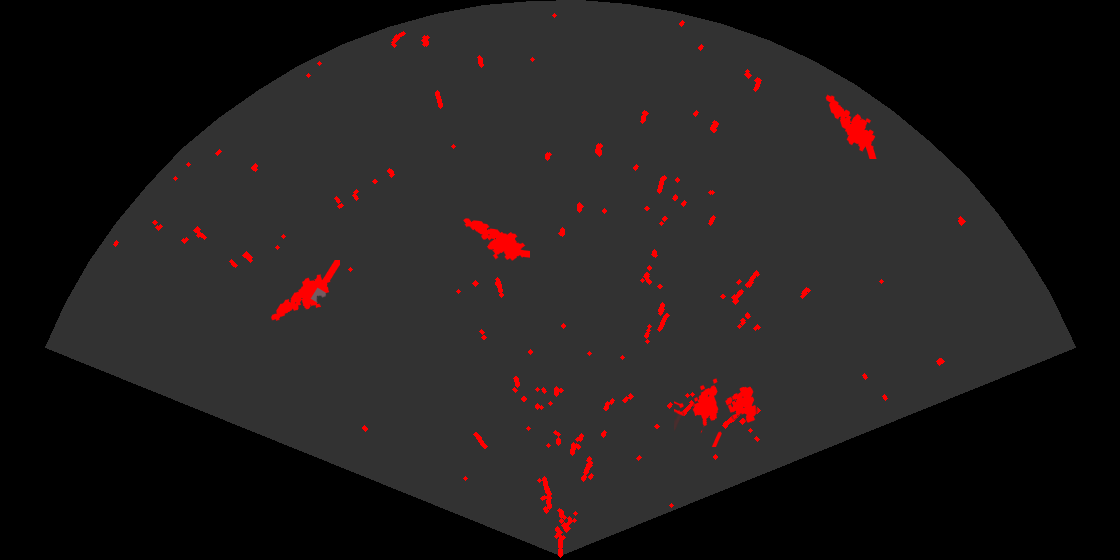cage: (674, 377, 758, 447)
frogman: (269, 260, 340, 322), (824, 93, 878, 159), (462, 217, 530, 262)
